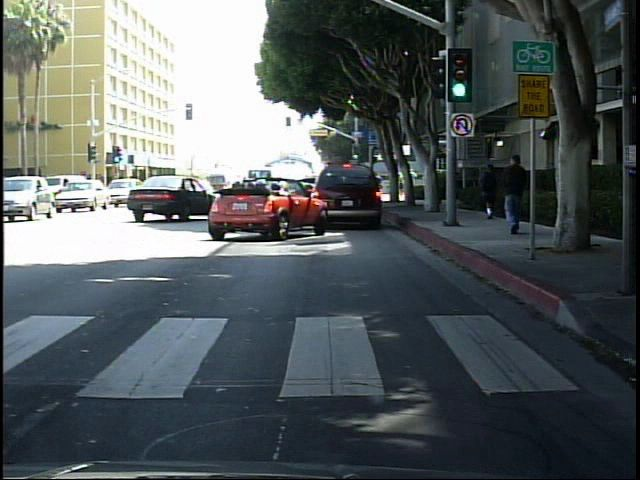person: (500, 146, 532, 237), (480, 157, 504, 221), (406, 164, 422, 201)
